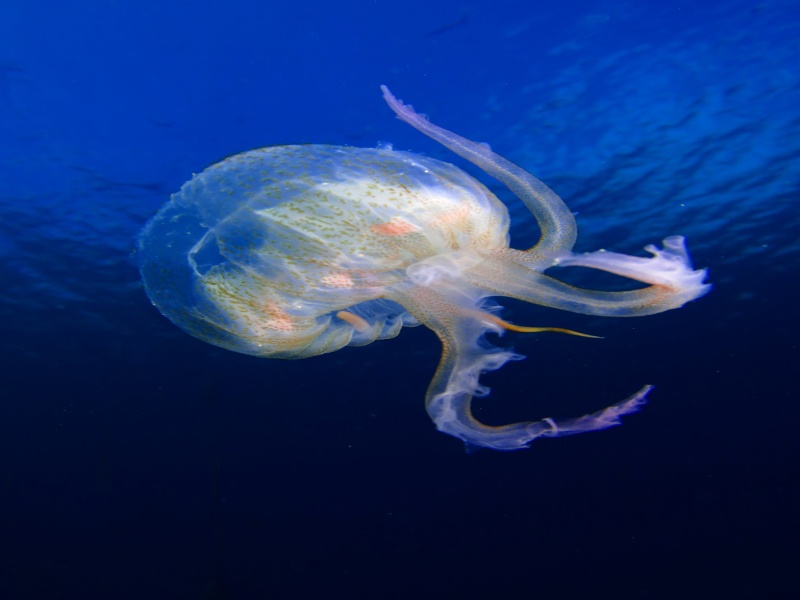Jellyfish: (134, 84, 711, 454)
